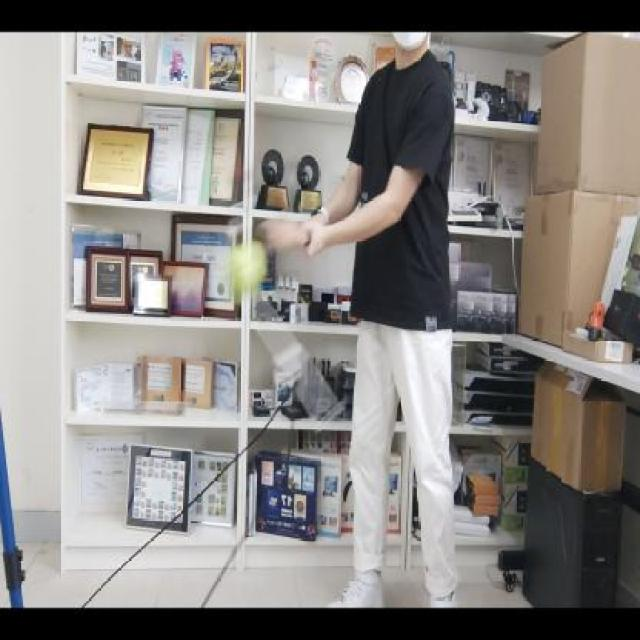baseball: (217, 236, 269, 298)
